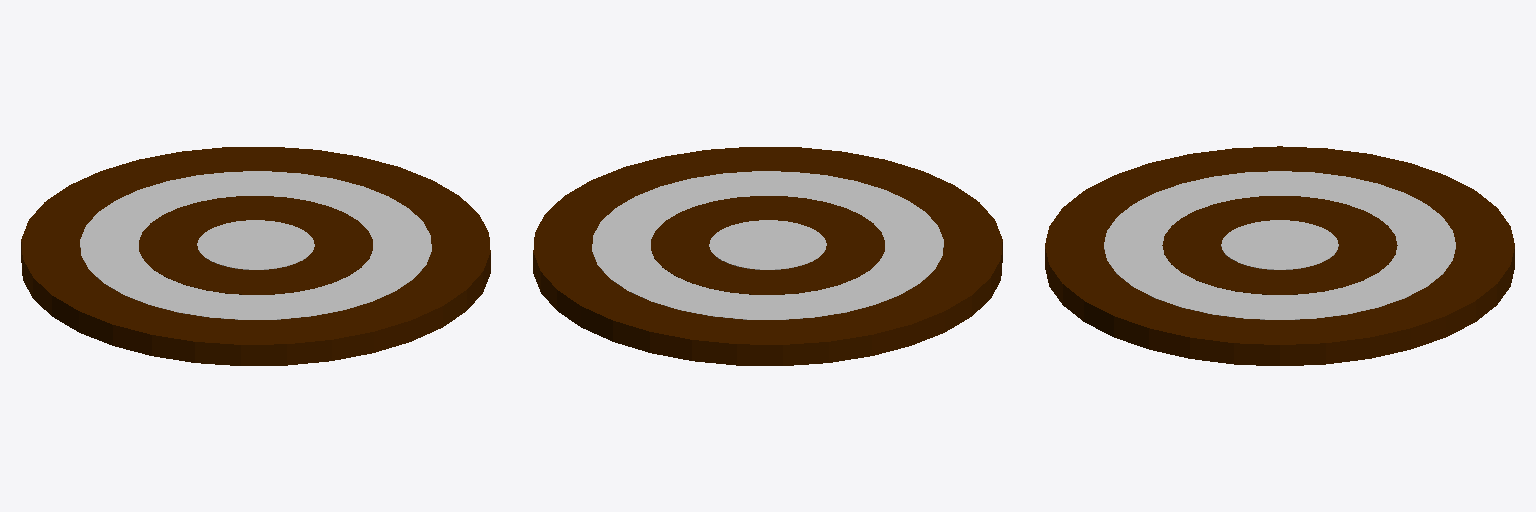
File: target_3.obj
3 renders of one model, left to right at view 1: azimuth 30°, elevation 25°; view 2: azimuth 150°, elevation 25°; view 3: azimuth 270°, elevation 25°, orthographic.
Visible parts, largest first — view 1: Cylinder, Cylinder.001, Cylinder.002, Cylinder.003; view 2: Cylinder, Cylinder.001, Cylinder.002, Cylinder.003; view 3: Cylinder, Cylinder.001, Cylinder.002, Cylinder.003.
Boxes of the visible parts, x1,y1,x2,y2 form: Cylinder: [21, 147, 490, 365]; Cylinder.001: [80, 171, 431, 319]; Cylinder.002: [139, 196, 372, 294]; Cylinder.003: [197, 220, 314, 269]; Cylinder: [533, 147, 1002, 365]; Cylinder.001: [592, 171, 943, 319]; Cylinder.002: [651, 196, 884, 294]; Cylinder.003: [709, 220, 826, 269]; Cylinder: [1045, 146, 1514, 365]; Cylinder.001: [1104, 171, 1455, 319]; Cylinder.002: [1162, 196, 1397, 294]; Cylinder.003: [1221, 220, 1338, 269].
Bounding box in the file's own units: 0.2 × 0.0104 × 0.2.